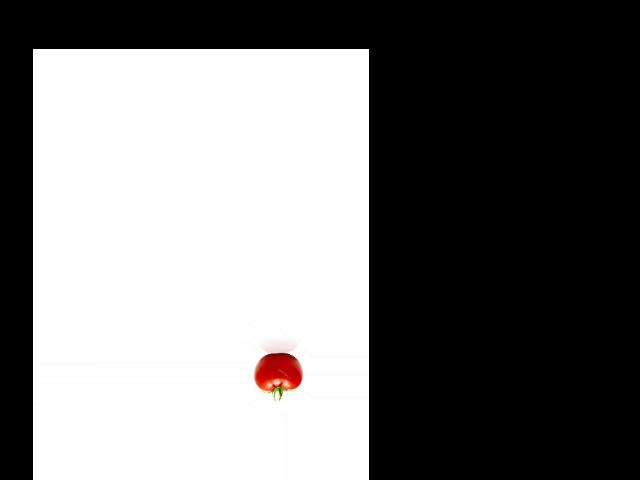tomato: (254, 353, 303, 391)
